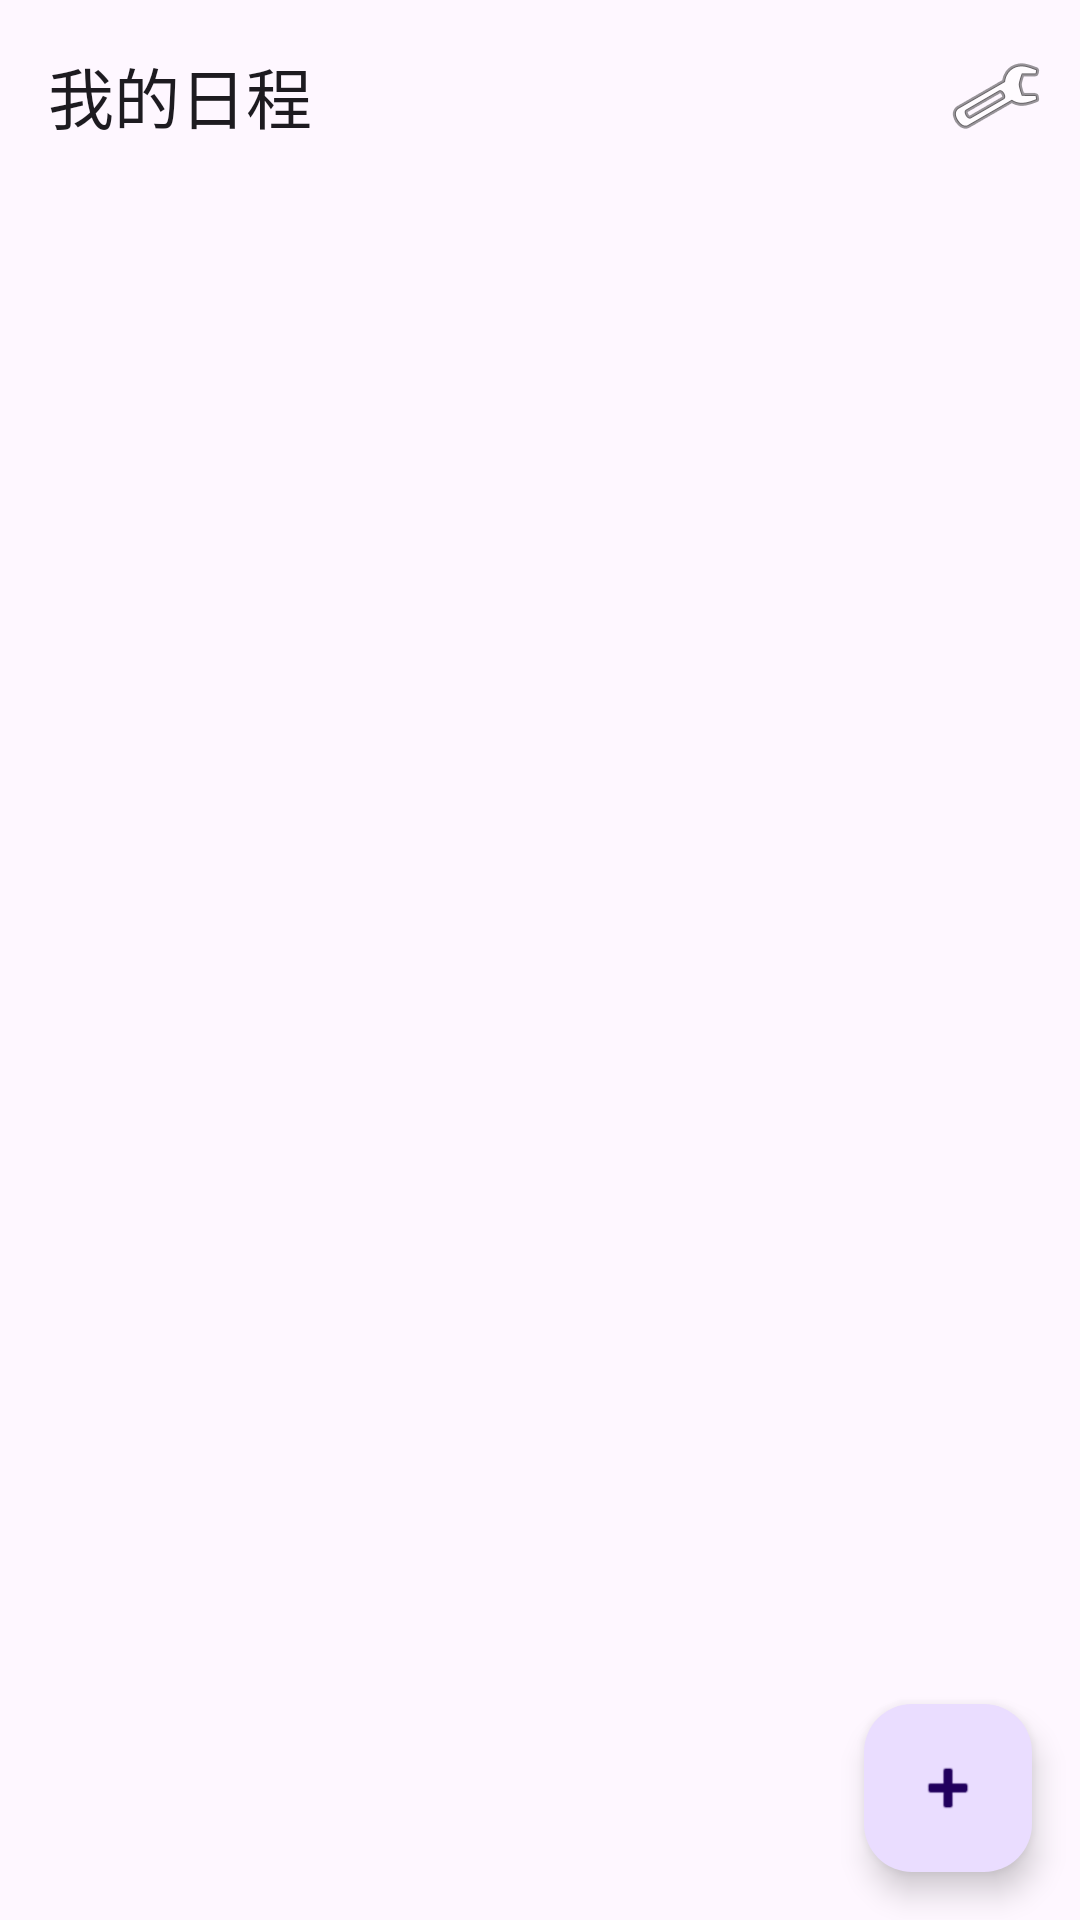

Locate icon controls on the screen. Image size 1080px×1920px, boxes as {"x1": x1, "y1": y1, "x2": x2, "y2": y2}.
添加日程: {"x1": 864, "y1": 1704, "x2": 1032, "y2": 1872}
